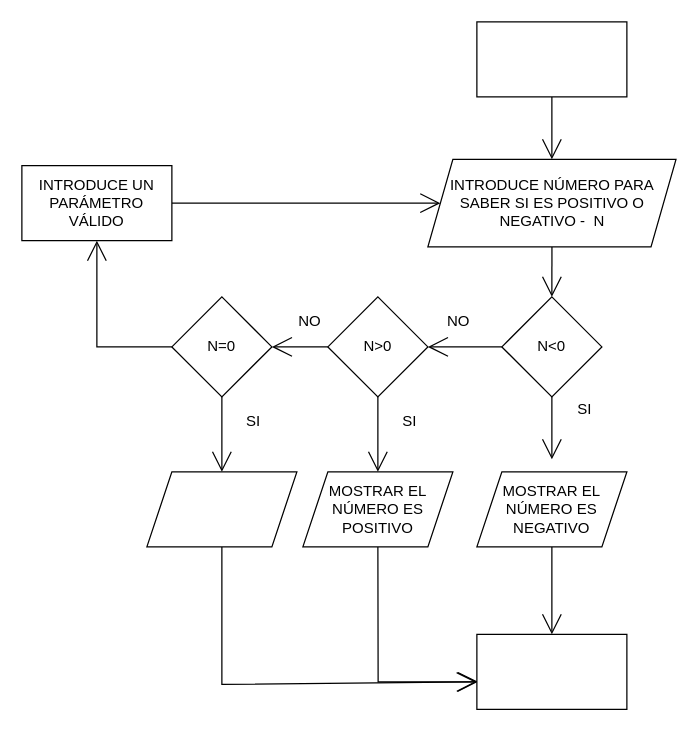
Image size: 699x731. Some labels were removed from this diagram. Here are the shapes that lost their labels. From the top down, the centre of each, then its label:
pixel 551 59: INICIO
pixel 221 509: MOSTRAR EL NÚMERO ES CERO
pixel 551 671: FIN
